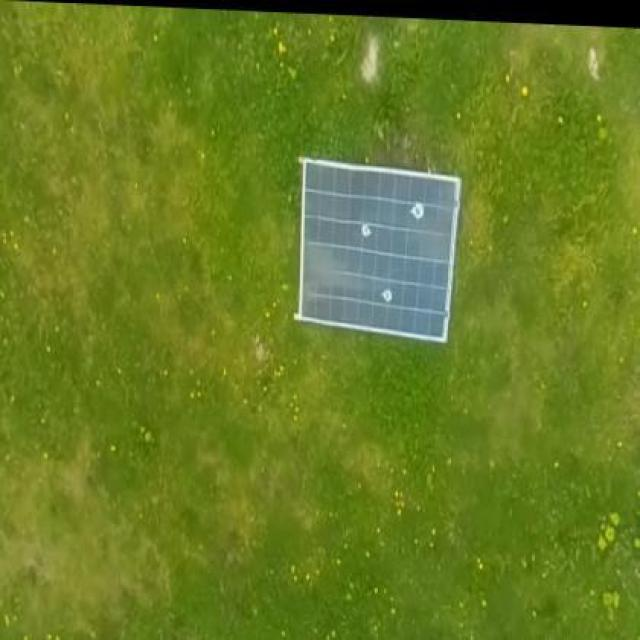soiled: (296, 156, 464, 344)
